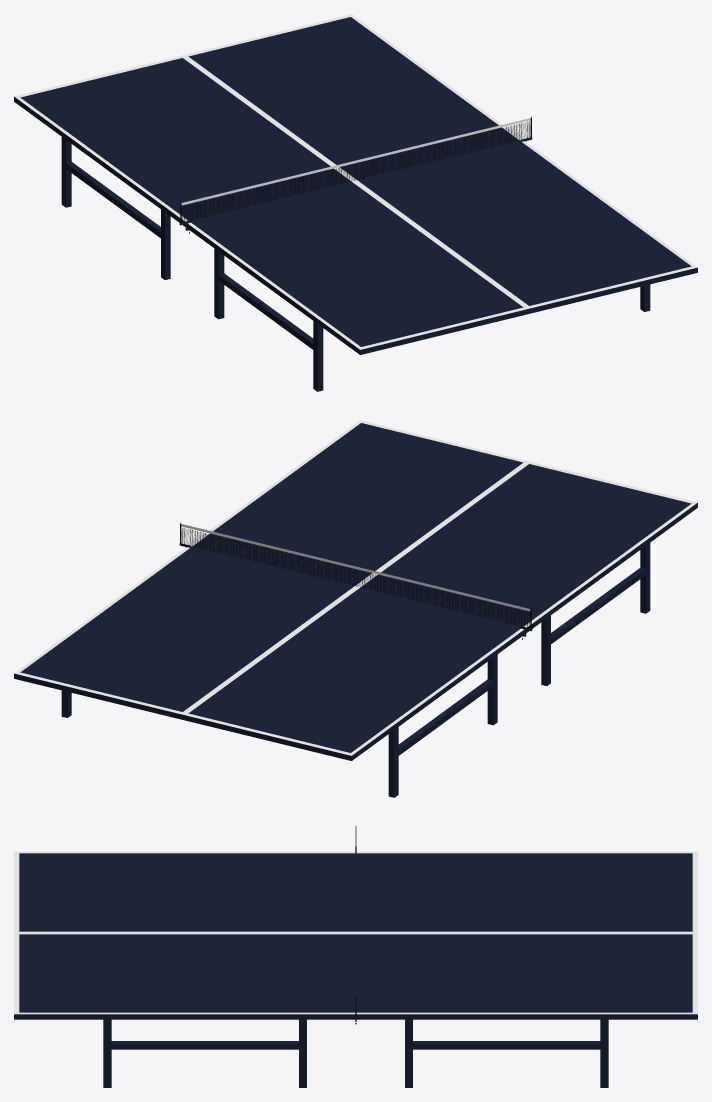
The model's file is table.glb.
3 views of the same model, one above another, from view 1: azimuth 30°, elevation 25°; view 2: azimuth 150°, elevation 25°; view 3: azimuth 270°, elevation 25° (orthographic).
Parts seen in each view (by area): view 1: Table, NET HOLDER; view 2: Table, NET HOLDER; view 3: Table.
Boxes of the visible parts, bbox=[...] form: Table: bbox=[14, 14, 697, 391]; NET HOLDER: bbox=[179, 116, 532, 233]; Table: bbox=[14, 420, 697, 797]; NET HOLDER: bbox=[179, 522, 532, 639]; Table: bbox=[14, 851, 697, 1087].
Size of the model in its own units: 3.22 by 0.8585 by 5.48.
